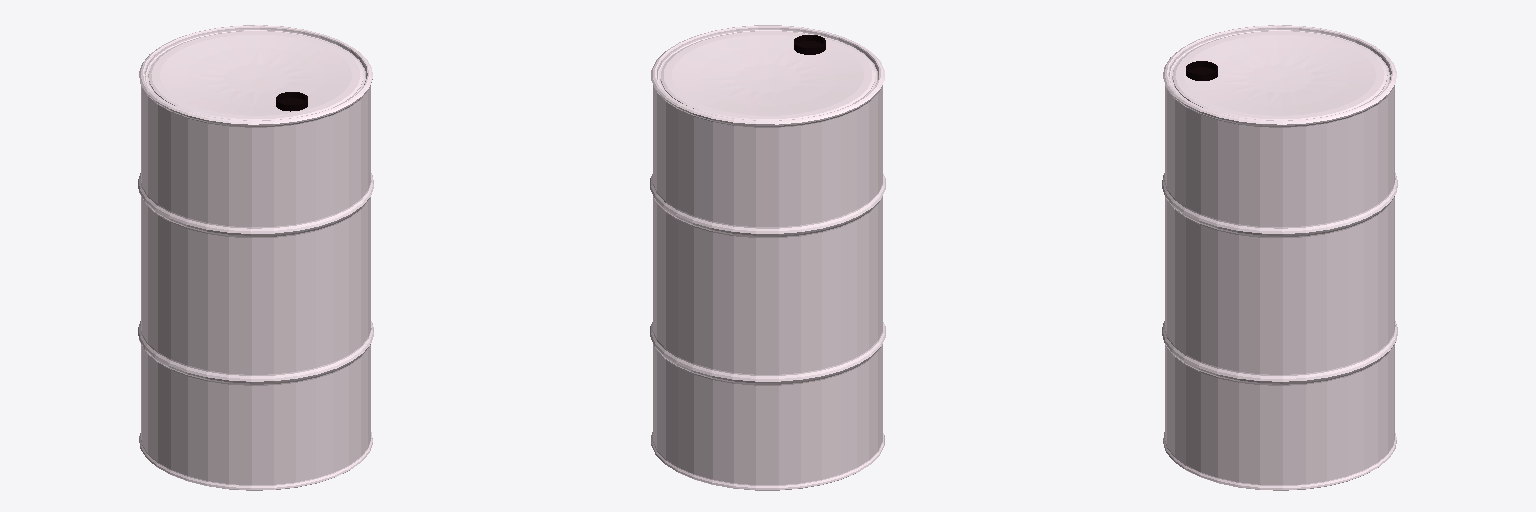
Rendered from barrel.obj.
The picture shows the model from 3 angles: view 1: azimuth 30°, elevation 25°; view 2: azimuth 150°, elevation 25°; view 3: azimuth 270°, elevation 25°; orthographic projection.
Visible parts, largest first — view 1: Circle; view 2: Circle; view 3: Circle.
Part boxes in pixels (bbox=[...]): Circle: bbox=[138, 25, 373, 490]; Circle: bbox=[650, 25, 885, 490]; Circle: bbox=[1162, 25, 1397, 490].
Size of the model in its own units: 2.01 by 3.5 by 2.01.